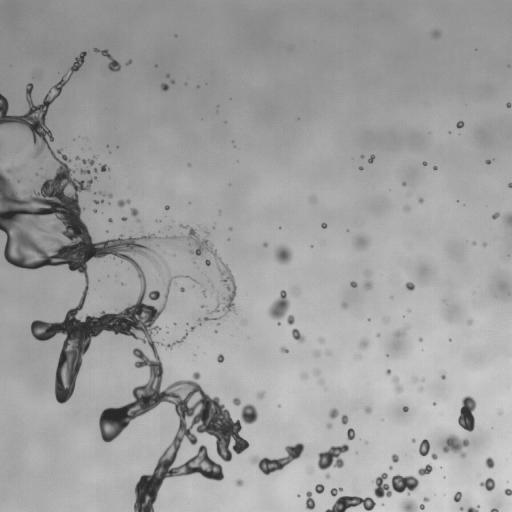droplet: (267, 290, 294, 325), (317, 444, 349, 470), (442, 434, 469, 457), (274, 245, 292, 264), (291, 328, 305, 342), (480, 478, 495, 491), (419, 439, 430, 456), (354, 236, 368, 249), (418, 464, 433, 475), (306, 491, 315, 509), (330, 487, 342, 496), (117, 199, 130, 207), (485, 457, 494, 468), (347, 428, 355, 440), (359, 339, 368, 349), (329, 408, 338, 418), (453, 491, 461, 502), (315, 484, 324, 493), (130, 208, 138, 217), (405, 282, 414, 290), (341, 414, 348, 424), (432, 30, 440, 38), (364, 281, 372, 289), (161, 83, 169, 90), (100, 164, 108, 171), (217, 354, 224, 362), (391, 454, 398, 462), (456, 121, 463, 128), (492, 212, 499, 219), (257, 391, 264, 398), (233, 398, 240, 405), (364, 406, 371, 413), (236, 479, 243, 486), (504, 488, 511, 495), (368, 155, 374, 163), (350, 281, 357, 287), (293, 287, 298, 295), (280, 347, 288, 352), (318, 337, 324, 343), (301, 373, 307, 379), (431, 453, 437, 459), (313, 370, 320, 375), (321, 223, 327, 228), (203, 317, 210, 321), (126, 60, 131, 65), (506, 102, 511, 107), (310, 197, 315, 202), (418, 198, 423, 203), (164, 205, 169, 210), (314, 351, 319, 356), (441, 374, 446, 379), (403, 406, 408, 411), (327, 423, 332, 428), (307, 467, 312, 472), (189, 326, 195, 330), (422, 161, 427, 165), (485, 160, 490, 164), (433, 165, 437, 170), (404, 206, 409, 210), (180, 287, 184, 292), (342, 302, 346, 307), (467, 320, 472, 324), (386, 369, 390, 374), (319, 379, 323, 384), (423, 497, 428, 501), (202, 289, 205, 295), (359, 166, 363, 170), (108, 194, 112, 198), (122, 217, 126, 221), (108, 218, 112, 222), (263, 242, 267, 246), (413, 377, 417, 381), (419, 387, 423, 391), (411, 438, 415, 442), (325, 474, 329, 478), (508, 182, 511, 187), (75, 156, 79, 159), (94, 168, 97, 172), (155, 243, 159, 246), (472, 242, 476, 245), (366, 271, 369, 275), (376, 334, 380, 337), (198, 318, 200, 323), (402, 182, 405, 185), (93, 209, 96, 212), (483, 243, 486, 246), (419, 338, 422, 341), (421, 378, 424, 381), (389, 466, 392, 469), (171, 80, 173, 83), (361, 155, 363, 158), (100, 192, 103, 194), (229, 227, 231, 230), (358, 355, 360, 358), (433, 402, 435, 405), (278, 404, 280, 407), (460, 507, 462, 510), (94, 156, 96, 158), (188, 164, 190, 166), (137, 219, 139, 221), (201, 305, 203, 307)
ligament: (0, 80, 257, 511), (163, 224, 235, 314), (250, 443, 304, 474), (373, 473, 418, 498), (325, 496, 375, 511), (458, 396, 476, 431), (94, 48, 120, 71), (166, 331, 188, 349), (70, 51, 86, 72), (400, 498, 424, 511), (392, 376, 402, 393), (395, 328, 407, 336), (81, 159, 94, 165), (505, 212, 511, 224), (467, 506, 479, 511), (79, 169, 90, 174), (94, 200, 103, 204), (490, 507, 498, 511), (216, 316, 222, 319)
